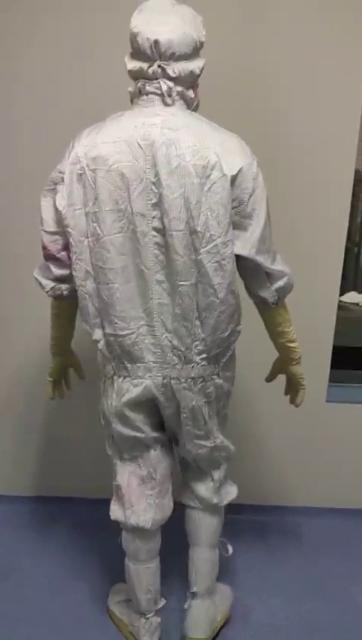boot_secured: (178, 504, 255, 640), (109, 506, 176, 640)
gloves_fitted_securely: (250, 268, 324, 416), (35, 258, 103, 402)
headgear_secured: (116, 3, 218, 109)
